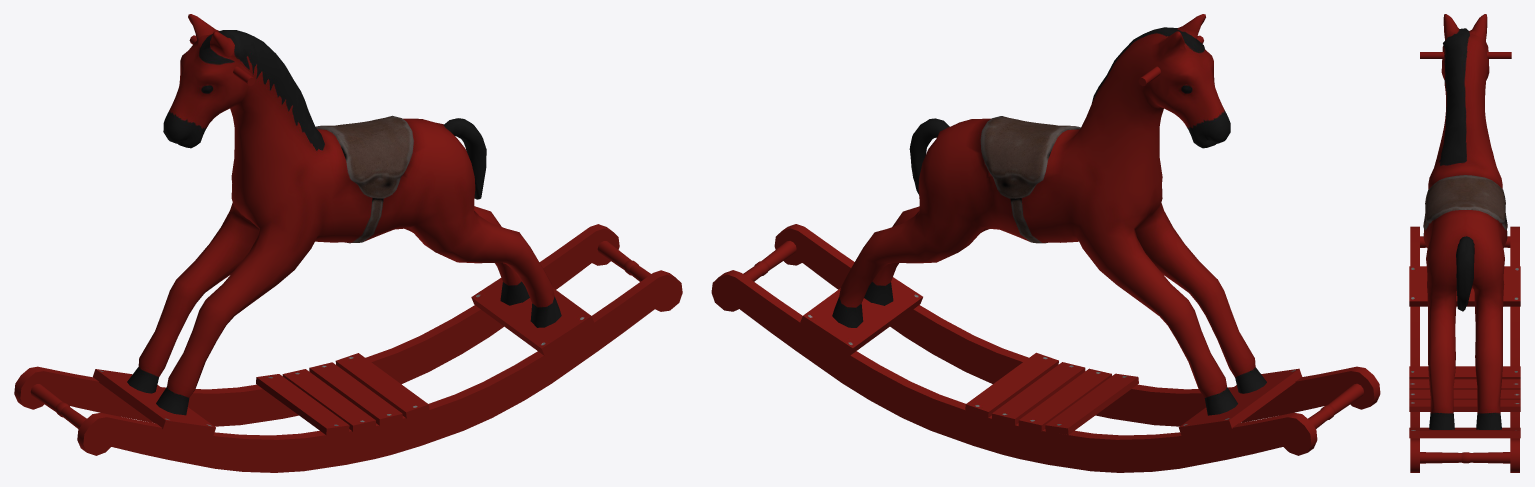
Rendered from horse.FBX.
3 renders of one model, left to right at view 1: azimuth 30°, elevation 25°; view 2: azimuth 150°, elevation 25°; view 3: azimuth 270°, elevation 25°, orthographic. The views are drawn at different scales.
Visible parts, largest first — view 1: horse; view 2: horse; view 3: horse.
Part boxes in pixels (x1=…): horse: x1=14, y1=14, x2=682, y2=472; horse: x1=711, y1=14, x2=1380, y2=472; horse: x1=1409, y1=14, x2=1520, y2=472.
Size of the model in its own units: 0.8767 by 0.6206 by 0.1783.
Materials: 1 (1 with a texture image).
